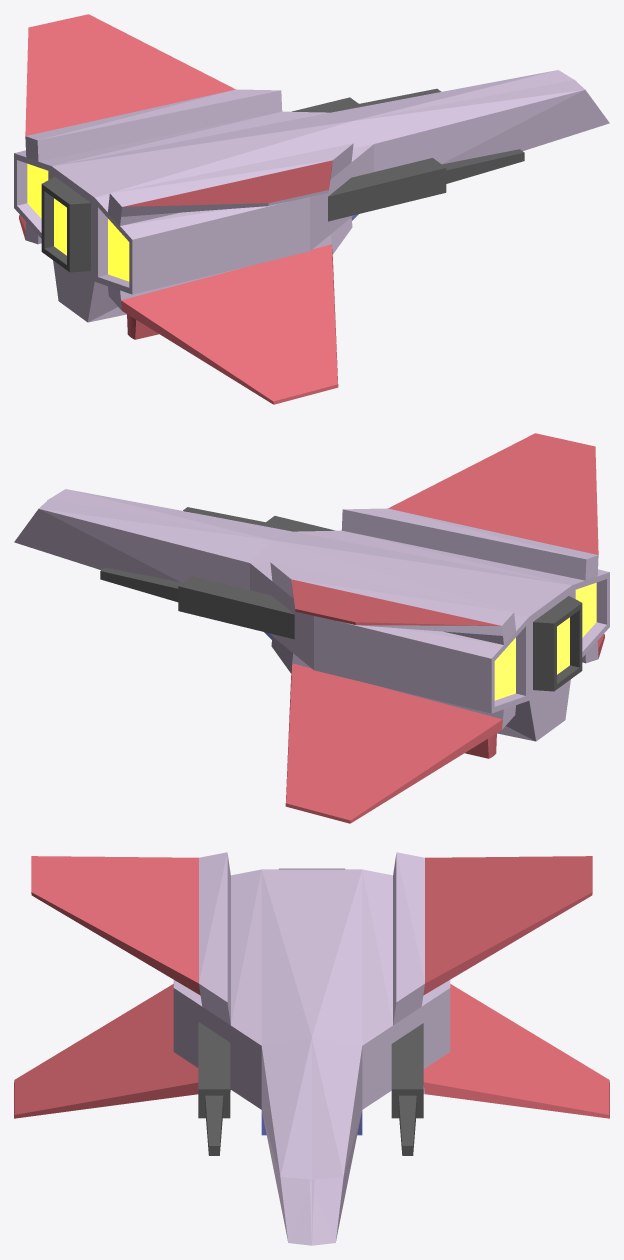
File: spaceship (1).fbx
3 renders of one model, top to bottom at view 1: azimuth 30°, elevation 25°; view 2: azimuth 150°, elevation 25°; view 3: azimuth 270°, elevation 25°, orthographic. The views are drawn at different scales.
Parts seen in each view (by area): view 1: Cube.002; view 2: Cube.002; view 3: Cube.002.
Part boxes in pixels (left/top/right/bottom): Cube.002: left=14, top=14, right=609, bottom=404; Cube.002: left=14, top=433, right=609, bottom=823; Cube.002: left=14, top=852, right=609, bottom=1245.
Bounding box in the file's own units: 587 × 224 × 474.
